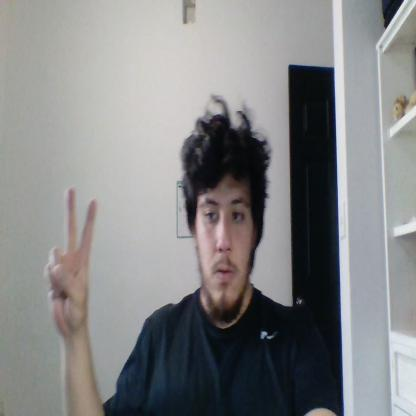V: (44, 184, 98, 335)
